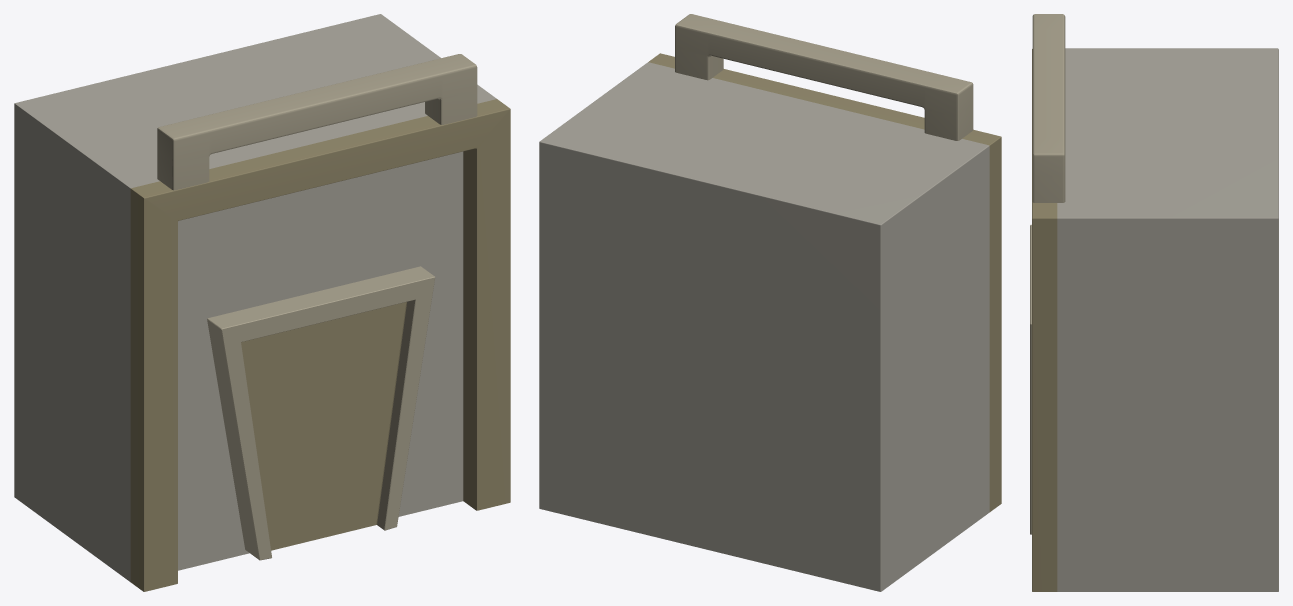
3 views of the same model, side by side, from view 1: azimuth 30°, elevation 25°; view 2: azimuth 150°, elevation 25°; view 3: azimuth 270°, elevation 25° (orthographic). The views are drawn at different scales.
Visible parts, largest first — view 1: pCube155; view 2: pCube155; view 3: pCube155.
Boxes of the visible parts, x1,y1,x2,y2 form: pCube155: (14,14,510,591); pCube155: (539,14,1001,591); pCube155: (1030,14,1278,591).
Bounding box in the file's own units: 69.1 × 80.12 × 42.73.
